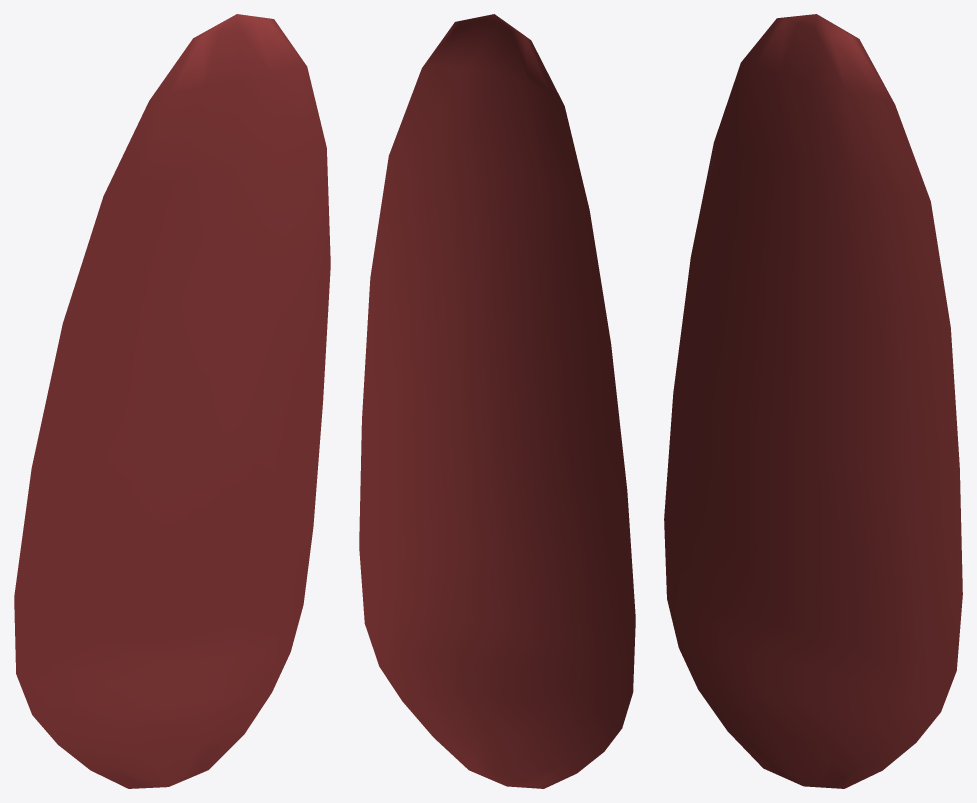
Rendered from suprapatellar-bursa-l.glb.
3 views of the same model, side by side, from view 1: azimuth 30°, elevation 25°; view 2: azimuth 150°, elevation 25°; view 3: azimuth 330°, elevation 25° (orthographic). The views are drawn at different scales.
Parts seen in each view (by area): view 1: Suprapatellar bursa.l; view 2: Suprapatellar bursa.l; view 3: Suprapatellar bursa.l.
Boxes of the visible parts, left/top/right/bottom form: Suprapatellar bursa.l: left=14, top=14, right=330, bottom=788; Suprapatellar bursa.l: left=359, top=14, right=635, bottom=788; Suprapatellar bursa.l: left=664, top=14, right=962, bottom=788.
Size of the model in its own units: 0.0269 by 0.0675 by 0.00642.
